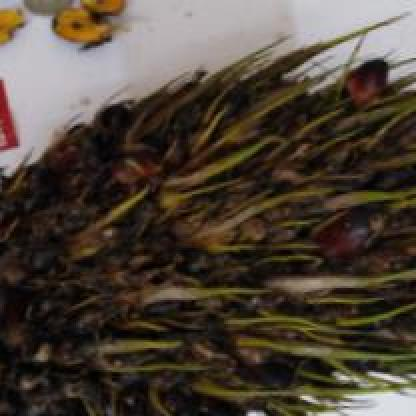Unripe: (0, 34, 416, 416)
